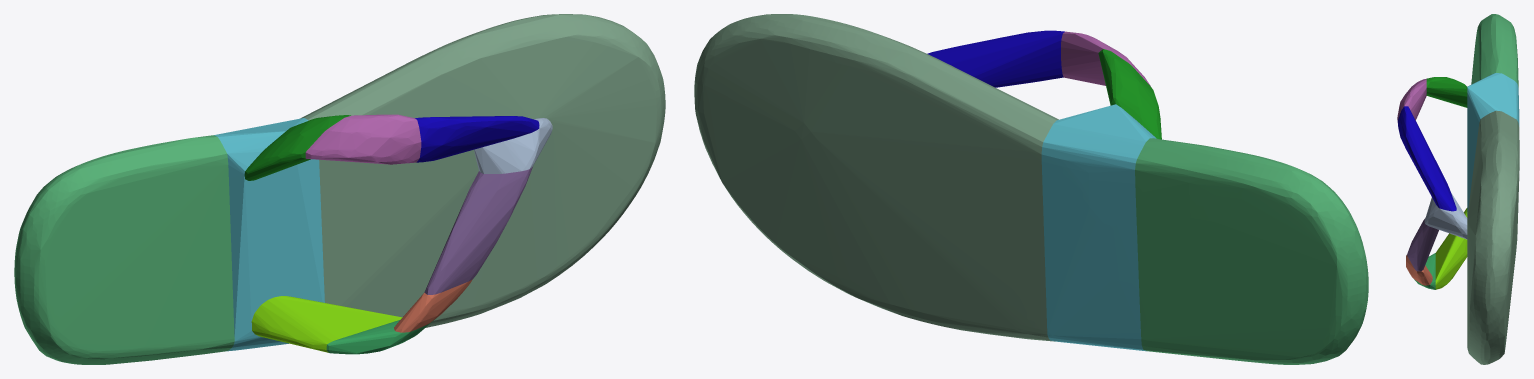
Rendered from coacd_collision.obj.
3 renders of one model, left to right at view 1: azimuth 30°, elevation 25°; view 2: azimuth 150°, elevation 25°; view 3: azimuth 270°, elevation 25°, orthographic. The views are drawn at different scales.
Parts seen in each view (by area): view 1: geometry_0, geometry_3, geometry_2, geometry_1, geometry_4, geometry_7, geometry_5, geometry_8, geometry_6, geometry_10, geometry_9; view 2: geometry_0, geometry_3, geometry_2, geometry_5, geometry_8, geometry_7; view 3: geometry_0, geometry_2, geometry_3, geometry_5, geometry_4, geometry_6, geometry_8, geometry_1, geometry_7, geometry_9, geometry_10.
Part boxes in pixels (box(x1,y1,x2,y2)): geometry_0: box(300, 14, 665, 327); geometry_3: box(14, 135, 234, 364); geometry_2: box(214, 118, 324, 351); geometry_1: box(424, 167, 532, 294); geometry_4: box(251, 296, 402, 352); geometry_7: box(305, 114, 421, 164); geometry_5: box(415, 116, 539, 162); geometry_8: box(244, 115, 350, 180); geometry_6: box(474, 118, 552, 173); geometry_10: box(326, 318, 436, 354); geometry_9: box(394, 279, 472, 332); geometry_0: box(694, 14, 1058, 341); geometry_3: box(1135, 138, 1368, 364); geometry_2: box(1041, 104, 1156, 351); geometry_5: box(927, 30, 1064, 87); geometry_8: box(1098, 49, 1161, 139); geometry_7: box(1061, 31, 1150, 86); geometry_0: box(1467, 110, 1519, 364); geometry_2: box(1467, 73, 1519, 215); geometry_3: box(1471, 14, 1518, 87); geometry_5: box(1397, 106, 1456, 211); geometry_4: box(1435, 208, 1467, 289); geometry_6: box(1424, 192, 1467, 239); geometry_8: box(1426, 77, 1467, 107); geometry_1: box(1407, 218, 1438, 271); geometry_7: box(1397, 78, 1426, 122); geometry_9: box(1406, 255, 1432, 285); geometry_10: box(1414, 253, 1435, 289).
Bounding box in the file's own units: 297 × 120 × 62.29.
